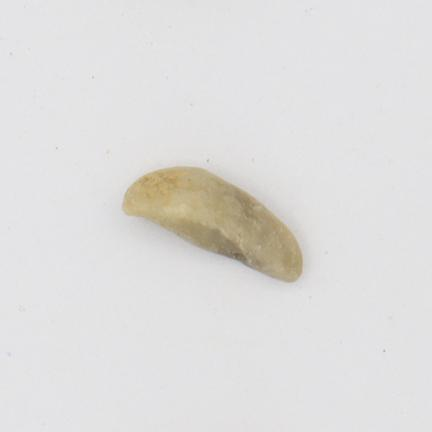shell: (123, 167, 301, 282)
